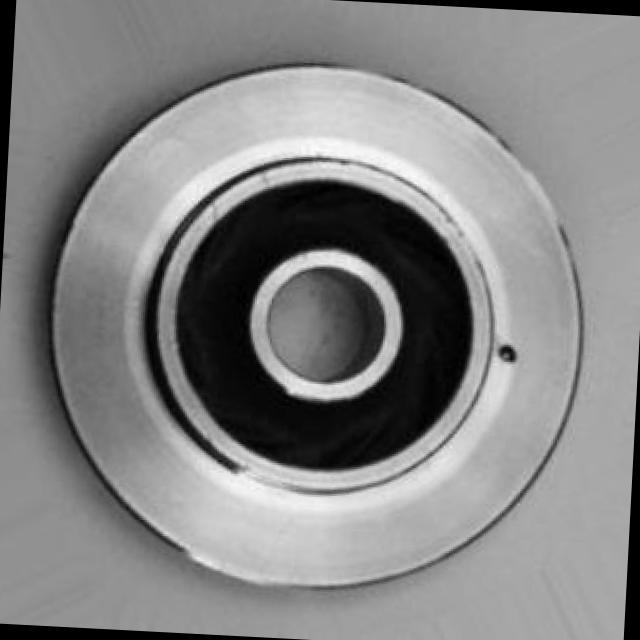Defect: (498, 341, 524, 378)
